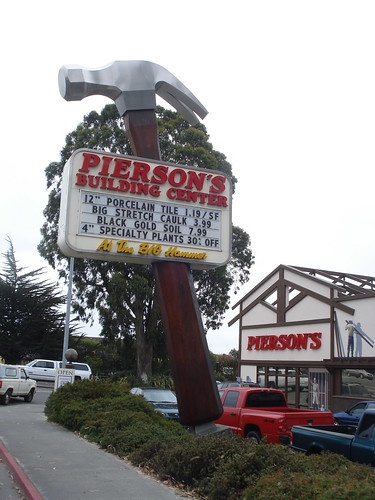hammer: (58, 58, 222, 154)
